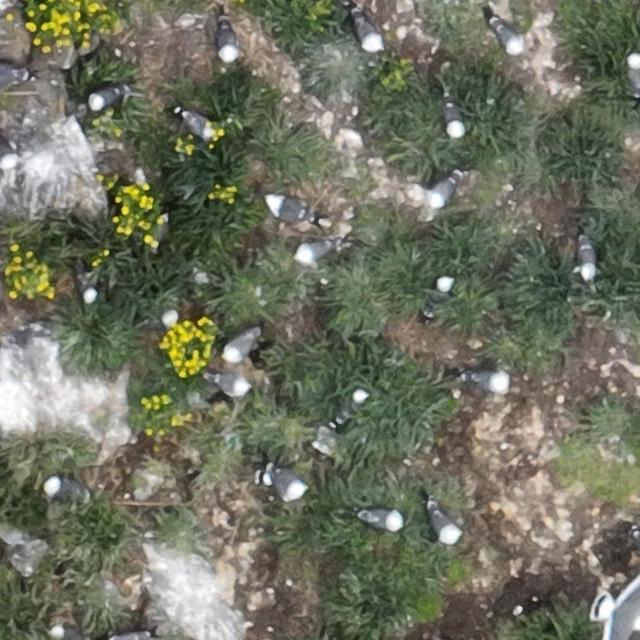F: (597, 572, 638, 636)
umineko: (262, 192, 318, 224), (292, 238, 342, 265), (271, 470, 306, 500), (432, 507, 461, 542), (356, 15, 383, 50), (224, 329, 255, 359), (338, 391, 366, 422), (428, 274, 453, 308), (182, 112, 212, 140), (495, 22, 523, 52), (429, 177, 457, 207), (218, 22, 239, 62), (362, 510, 402, 530), (468, 372, 508, 392), (215, 374, 250, 396), (89, 86, 122, 108), (46, 479, 82, 498), (578, 243, 596, 279), (443, 102, 462, 136), (0, 138, 20, 170), (162, 300, 183, 328), (1, 65, 26, 87), (52, 624, 84, 639), (80, 278, 98, 304), (628, 56, 639, 91)
